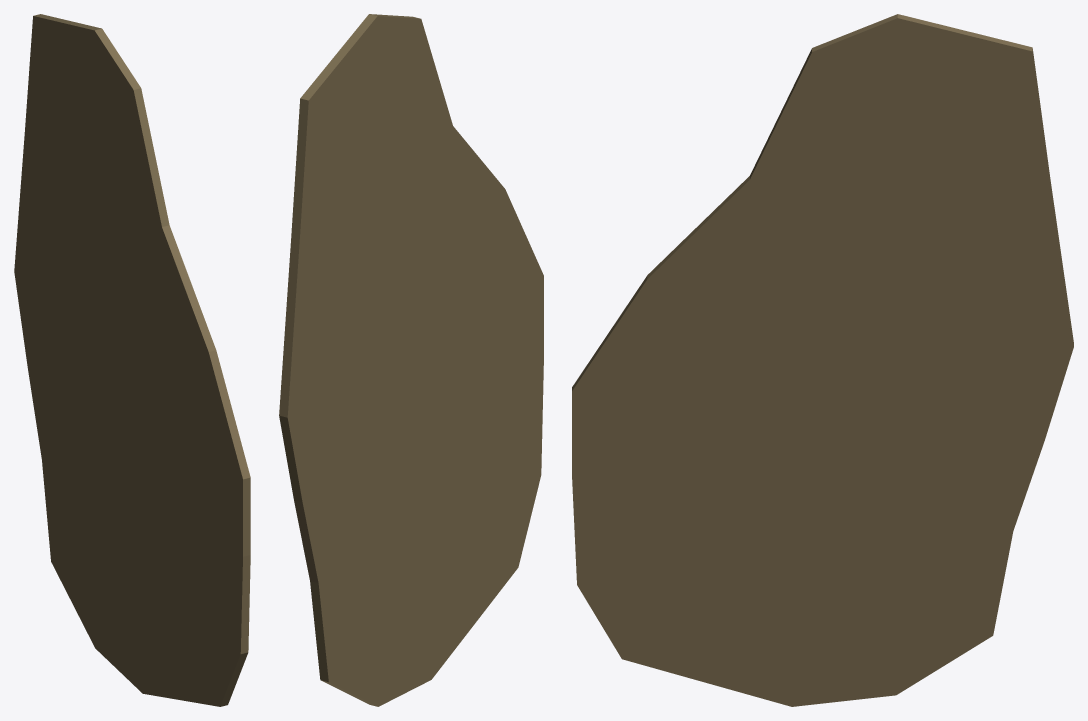
The model's file is Menina2.fbx.
3 views of the same model, side by side, from view 1: azimuth 30°, elevation 25°; view 2: azimuth 150°, elevation 25°; view 3: azimuth 270°, elevation 25° (orthographic). The views are drawn at different scales.
Visible parts, largest first — view 1: Plane; view 2: Plane; view 3: Plane.
Boxes of the visible parts, x1,y1,x2,y2 form: Plane: (14,14,250,706); Plane: (279,14,543,706); Plane: (572,14,1073,706).
Size of the model in its own units: 1.42 by 111 by 73.19.
